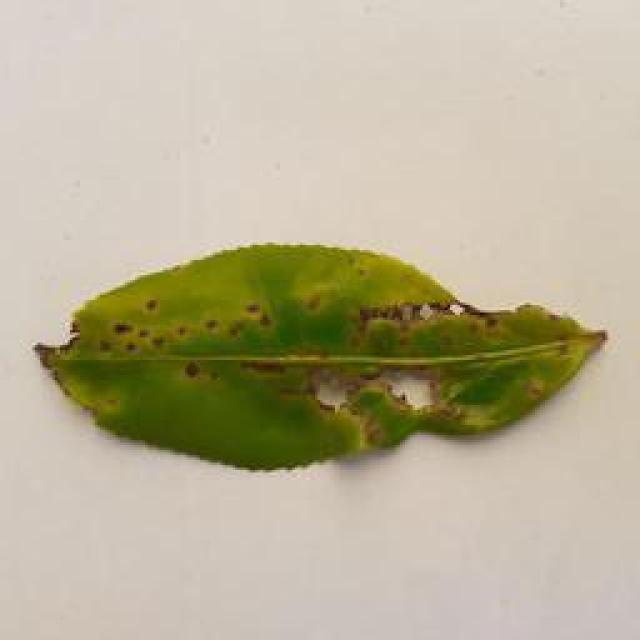Helopeltis: (33, 228, 624, 484)
